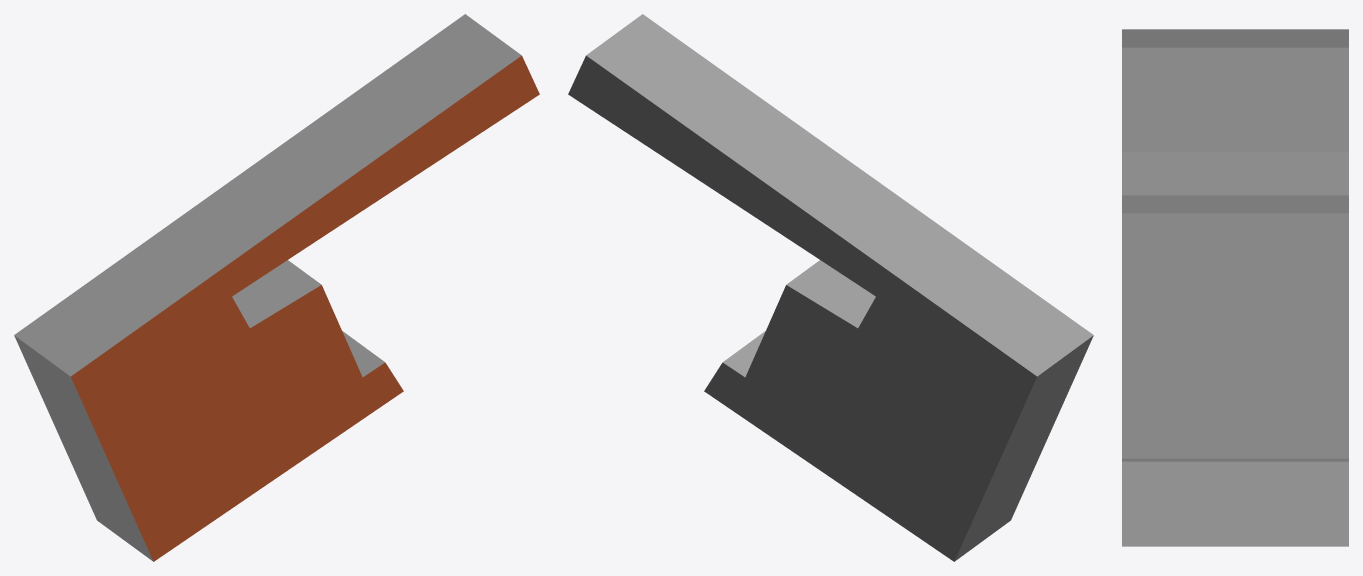
File: construction_5118_assumed_A_Casa_h6m.obj
3 renders of one model, left to right at view 1: azimuth 30°, elevation 25°; view 2: azimuth 150°, elevation 25°; view 3: azimuth 270°, elevation 25°, orthographic. The views are drawn at different scales.
Visible parts, largest first — view 1: construction_5118_assumed_A_Casa; view 2: construction_5118_assumed_A_Casa; view 3: construction_5118_assumed_A_Casa.
Part boxes in pixels (x1,y1,x2,y2): construction_5118_assumed_A_Casa: (14, 14, 539, 561); construction_5118_assumed_A_Casa: (568, 14, 1093, 561); construction_5118_assumed_A_Casa: (1122, 29, 1348, 546).
Bounding box in the file's own units: 28.68 × 24.34 × 6.
